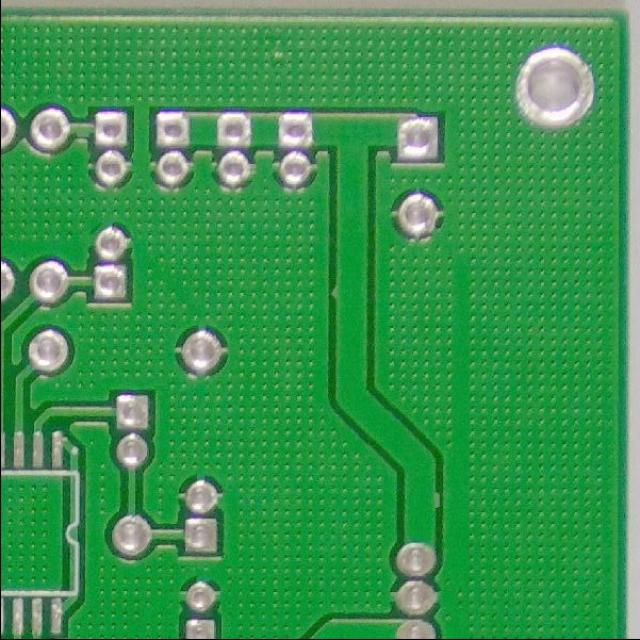Spur: (328, 274, 377, 312), (396, 482, 445, 518)
